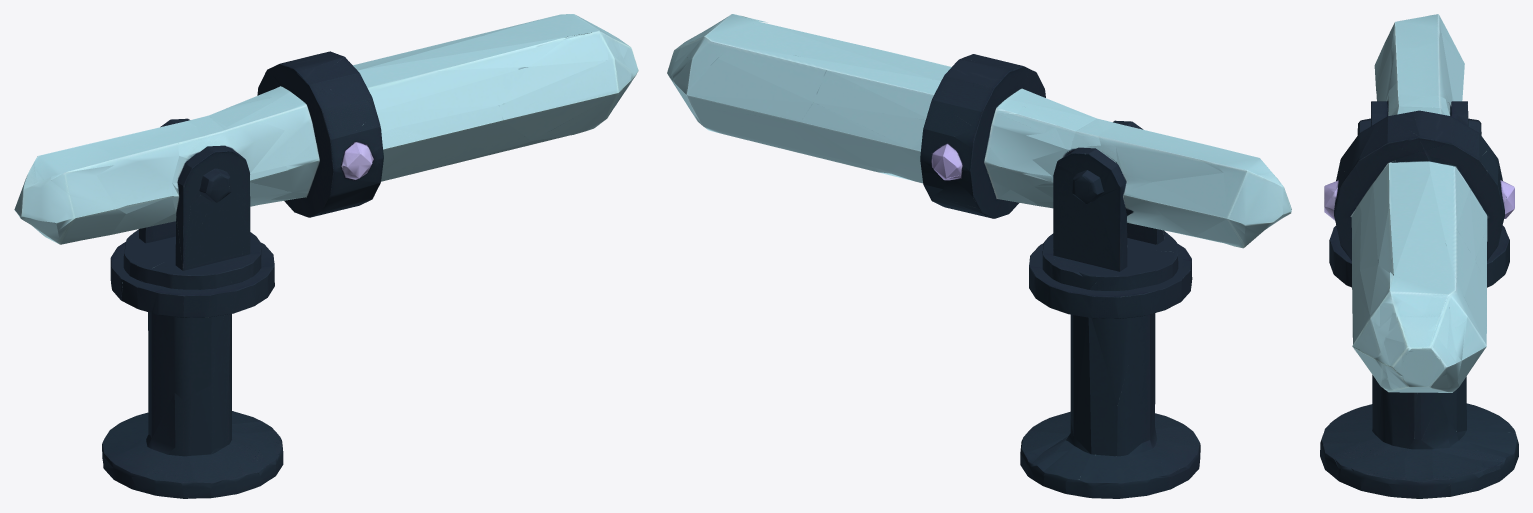
The model's file is glacier.glb.
3 views of the same model, side by side, from view 1: azimuth 30°, elevation 25°; view 2: azimuth 150°, elevation 25°; view 3: azimuth 270°, elevation 25° (orthographic). The views are drawn at different scales.
Size of the model in its own units: 1.9 by 1.09 by 0.4909.
Materials: 1 (1 with a texture image).
